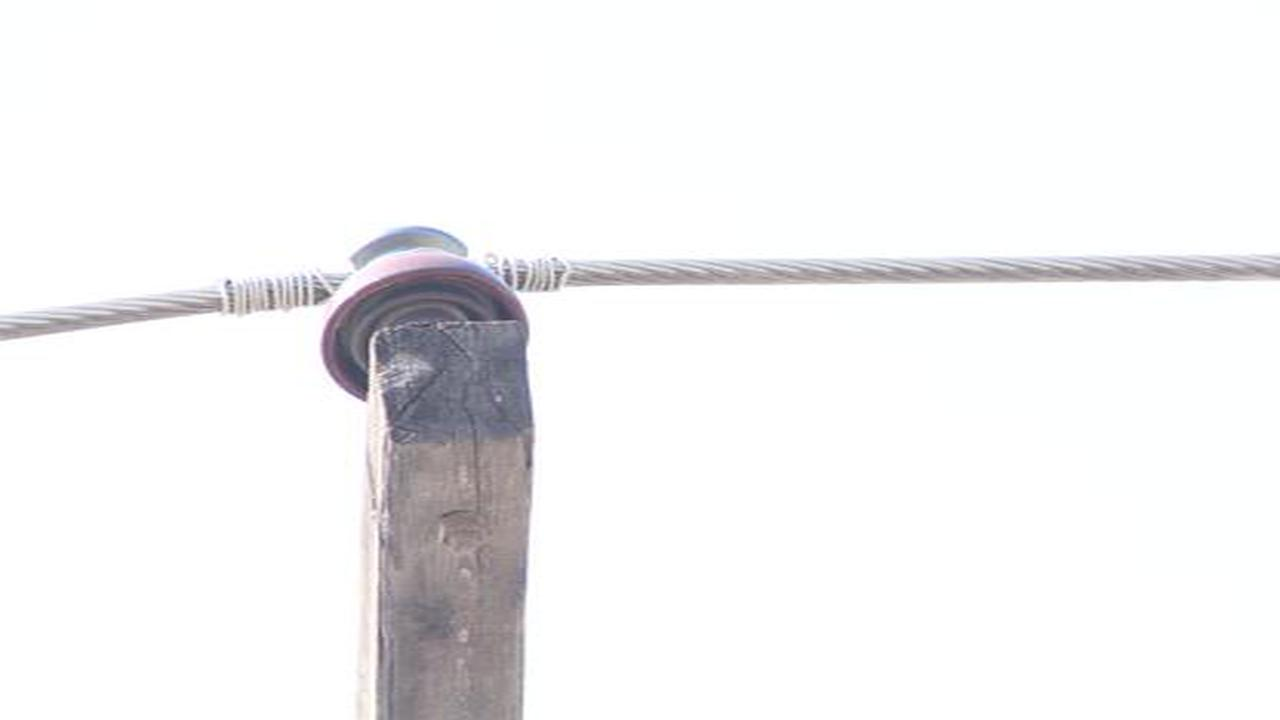insulator_pin: (313, 227, 542, 397)
